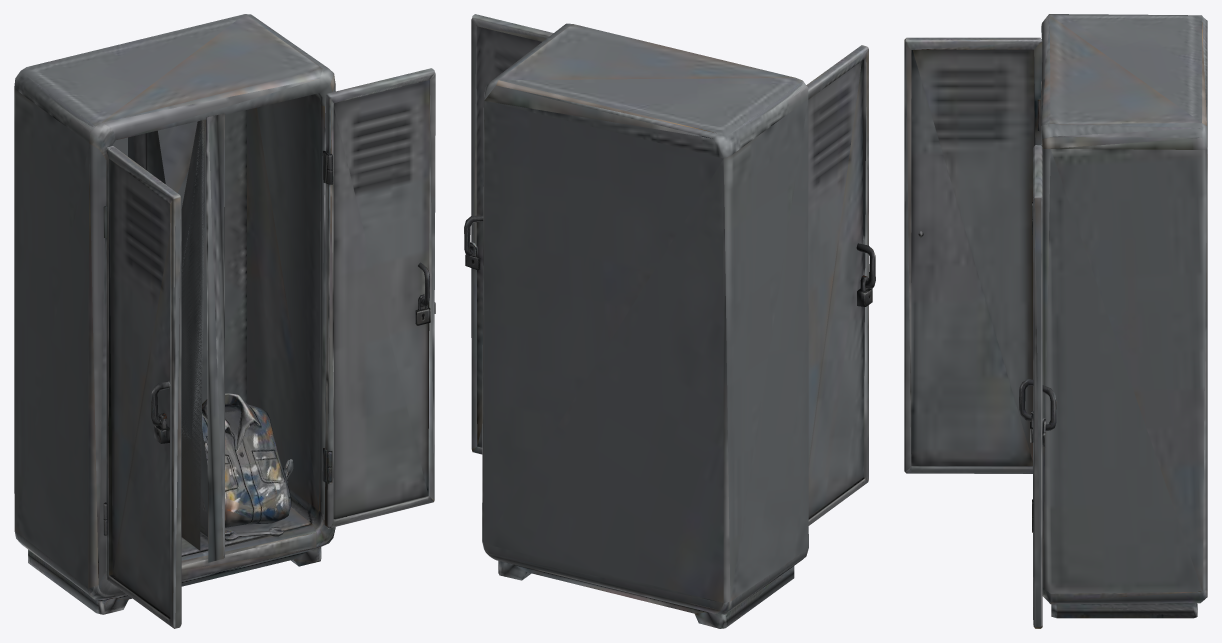
Rendered from locker_open.glb.
3 renders of one model, left to right at view 1: azimuth 30°, elevation 25°; view 2: azimuth 150°, elevation 25°; view 3: azimuth 270°, elevation 25°, orthographic.
Visible parts, largest first — view 1: locker_open; view 2: locker_open; view 3: locker_open.
Part boxes in pixels (x1,y1,x2,y2): locker_open: [14, 14, 435, 628]; locker_open: [464, 14, 875, 628]; locker_open: [904, 14, 1207, 628].
Bounding box in the file's own units: 1.14 × 1.55 × 0.8625.
1 material, 1 textured.
